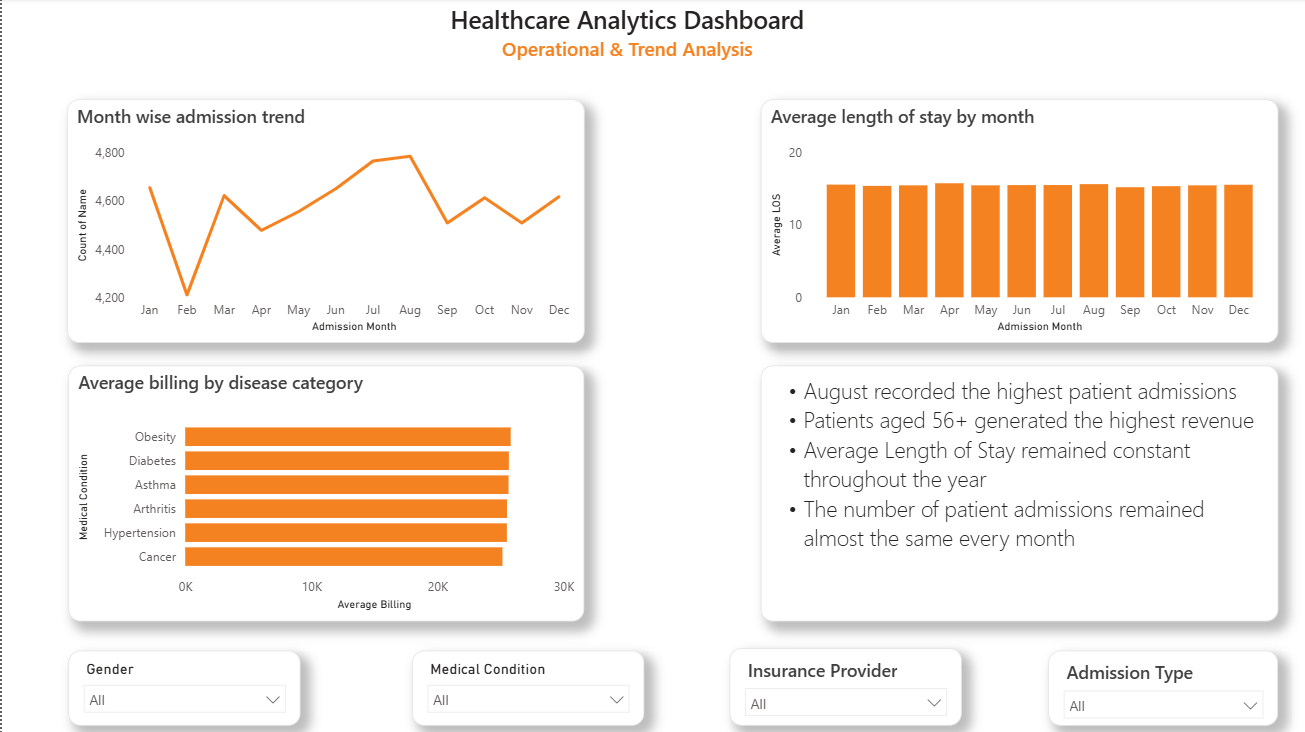

What the dashboard file says about the page in this screenshot:
{"tool":"powerbi","page":{"name":"operational&trend _analysis","canvas":[1280,720],"ordinal":1},"visuals":[{"type":"lineChart","title":"Month wise admission trend","fields":{"Y":["CountNonNull(healthcare_dataset.Name)"],"Category":["healthcare_dataset.Admission Month"]},"box":[63.8,98.8,506.2,238.8],"z":0},{"type":"clusteredColumnChart","title":"Average length of stay by month","fields":{"Category":["healthcare_dataset.Admission Month"],"Y":["healthcare_dataset.Average LOS"]},"box":[742.5,98.8,506.2,238.8],"z":1000},{"type":"clusteredBarChart","title":"Average billing by disease category","fields":{"Category":["healthcare_dataset.Medical Condition"],"Y":["healthcare_dataset.Average Billing"]},"box":[65,360,505,250],"z":2000},{"type":"textbox","box":[742.5,360,506.2,250],"z":3000},{"type":"slicer","fields":{"Values":["healthcare_dataset.Gender"]},"box":[65,638.8,227.5,73.8],"z":4000},{"type":"slicer","fields":{"Values":["healthcare_dataset.Medical Condition"]},"box":[401.2,638.8,227.5,73.8],"z":5000},{"type":"slicer","fields":{"Values":["healthcare_dataset.Insurance Provider"]},"box":[711.2,636.2,227.5,76.2],"z":6000},{"type":"slicer","fields":{"Values":["healthcare_dataset.Admission Type"]},"box":[1023.8,638.8,225,73.8],"z":7000},{"type":"textbox","box":[12.5,0,1198.8,75],"z":8000}]}

Visuals, with their boxes in screenshot pixels (x1, y1, x2, y2), scaled from the page's 1280x720 canvas onto the 1305x732 screenshot:
"Month wise admission trend" lineChart: rect(65, 100, 581, 343)
"Average length of stay by month" clusteredColumnChart: rect(757, 100, 1273, 343)
"Average billing by disease category" clusteredBarChart: rect(66, 366, 581, 620)
textbox: rect(757, 366, 1273, 620)
slicer - healthcare_dataset.Gender: rect(66, 649, 298, 724)
slicer - healthcare_dataset.Medical Condition: rect(409, 649, 641, 724)
slicer - healthcare_dataset.Insurance Provider: rect(725, 647, 957, 724)
slicer - healthcare_dataset.Admission Type: rect(1044, 649, 1273, 724)
textbox: rect(13, 0, 1235, 76)
